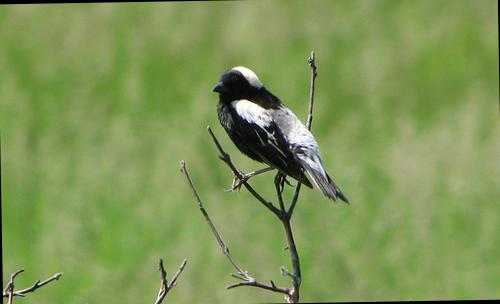bird: (204, 52, 357, 214)
